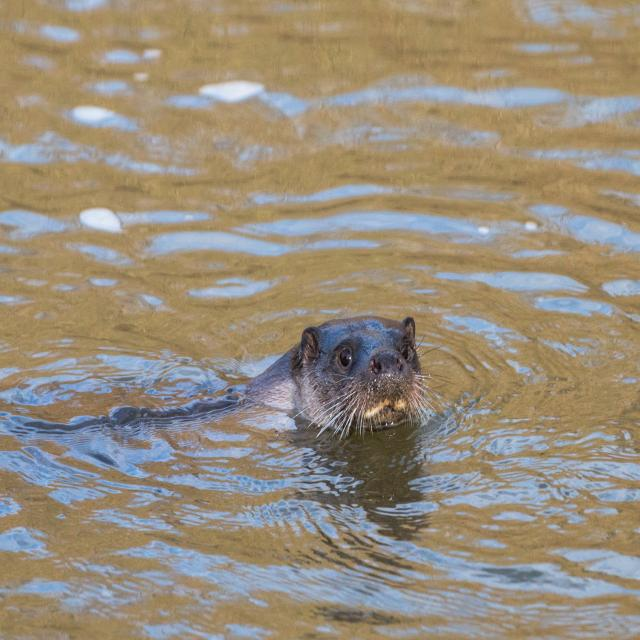otter: (297, 317, 424, 432)
